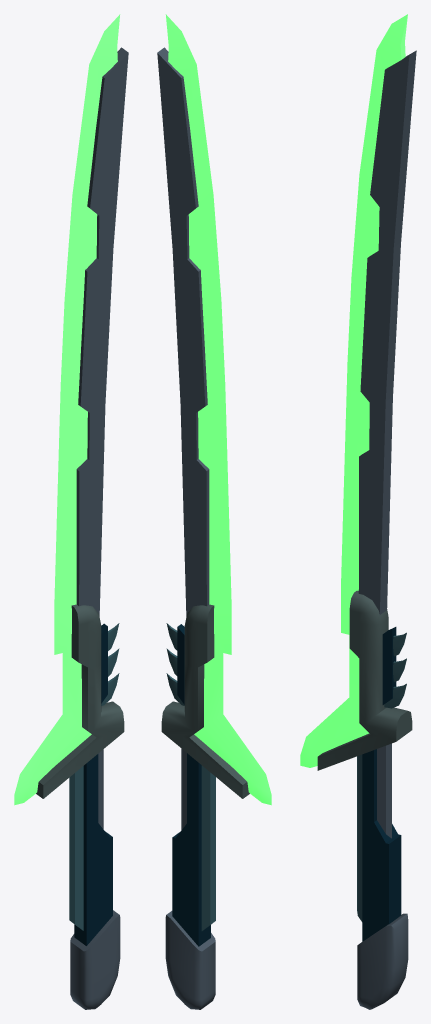
Rendered from katana.fbx.
3 renders of one model, left to right at view 1: azimuth 30°, elevation 25°; view 2: azimuth 150°, elevation 25°; view 3: azimuth 330°, elevation 25°, orthographic.
Parts seen in each view (by area): view 1: лезвие, лезвие2, рукаятка, рукаятка2, набалдажник рукаятки, шипы; view 2: лезвие, лезвие2, рукаятка, рукаятка2, набалдажник рукаятки, шипы; view 3: лезвие2, лезвие, рукаятка, рукаятка2, набалдажник рукаятки, шипы.
Boxes of the visible parts, x1,y1,x2,y2 form: лезвие: (14, 14, 120, 805); лезвие2: (76, 47, 128, 616); рукаятка: (69, 749, 112, 945); рукаятка2: (36, 604, 124, 798); набалдажник рукаятки: (70, 910, 120, 1009); шипы: (101, 623, 119, 705); лезвие: (165, 14, 271, 805); лезвие2: (157, 47, 209, 616); рукаятка: (172, 748, 215, 946); рукаятка2: (161, 604, 249, 798); набалдажник рукаятки: (165, 911, 215, 1009); шипы: (166, 623, 184, 705); лезвие2: (358, 50, 416, 614); лезвие: (300, 14, 407, 767); рукаятка: (357, 743, 401, 941); рукаятка2: (317, 590, 412, 770); набалдажник рукаятки: (357, 913, 408, 1009); шипы: (382, 627, 406, 708).
Bounding box in the file's own units: 16.69 × 141 × 4.52.
